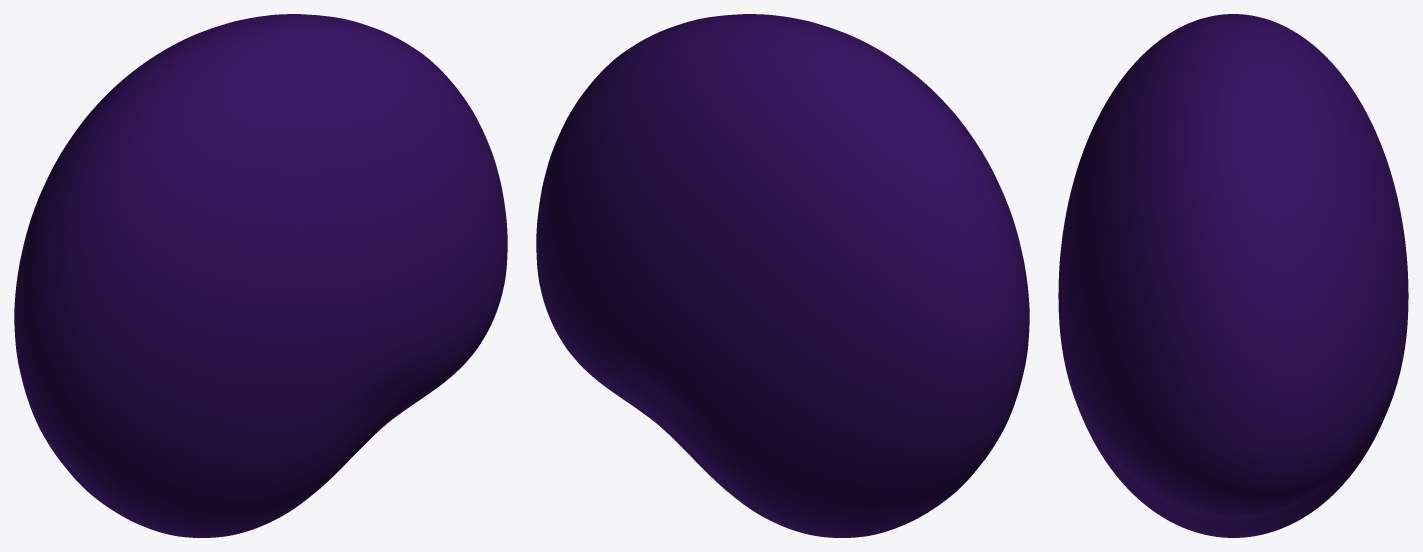
Rendered from purpl-pebble.glb.
3 views of the same model, side by side, from view 1: azimuth 30°, elevation 25°; view 2: azimuth 150°, elevation 25°; view 3: azimuth 270°, elevation 25° (orthographic). The views are drawn at different scales.
Parts seen in each view (by area): view 1: Purpl — original silhouette, rounded depth; view 2: Purpl — original silhouette, rounded depth; view 3: Purpl — original silhouette, rounded depth.
Boxes of the visible parts, <box> form: Purpl — original silhouette, rounded depth: <box>14,14,507,537</box>; Purpl — original silhouette, rounded depth: <box>536,14,1029,537</box>; Purpl — original silhouette, rounded depth: <box>1058,14,1408,537</box>.
Bounding box in the file's own units: 1.99 × 2 × 1.24.
